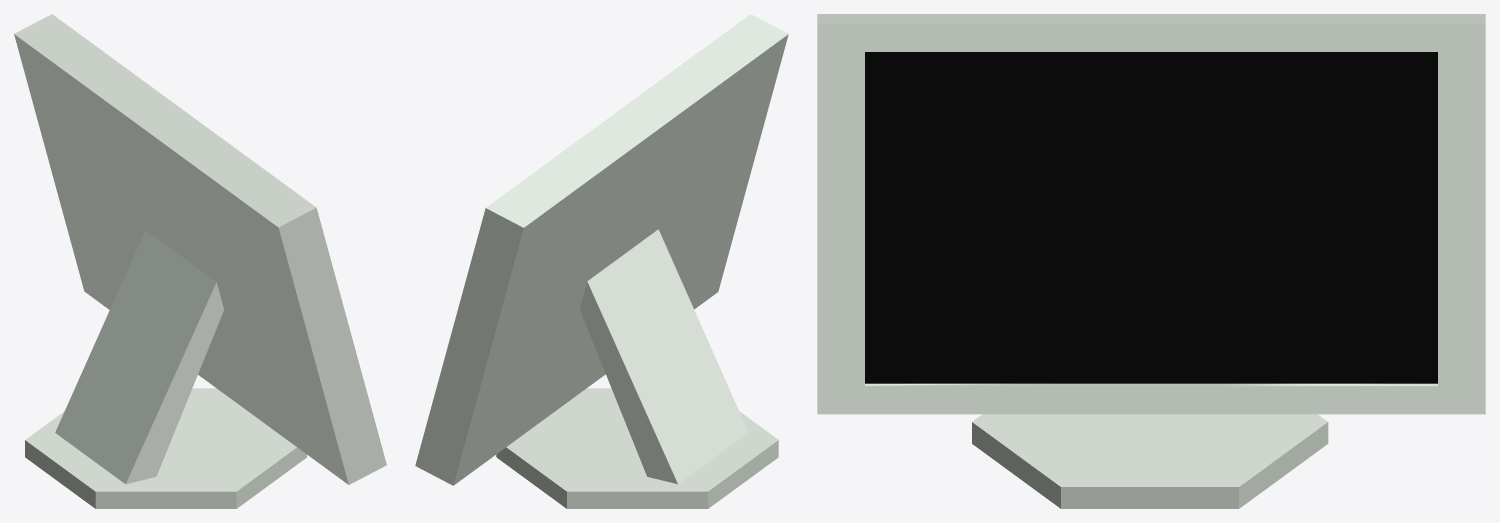
The model's file is cpu.fbx.
The picture shows the model from 3 angles, left to right: view 1: azimuth 30°, elevation 25°; view 2: azimuth 150°, elevation 25°; view 3: azimuth 270°, elevation 25°; orthographic projection. The views are drawn at different scales.
Visible parts, largest first — view 1: polySurface96; view 2: polySurface96; view 3: polySurface96.
Boxes of the visible parts, x1,y1,x2,y2 form: polySurface96: (14,14,386,508); polySurface96: (415,14,788,508); polySurface96: (817,14,1485,508).
Size of the model in its own units: 33.83 by 52.29 by 73.28.
